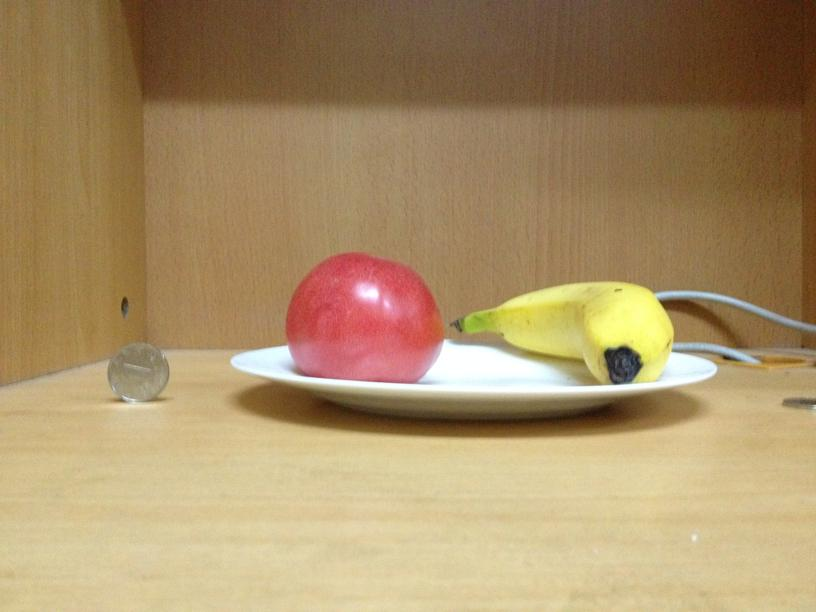banana: (469, 283, 673, 383)
coin: (108, 343, 169, 402)
tomato: (282, 250, 443, 382)
